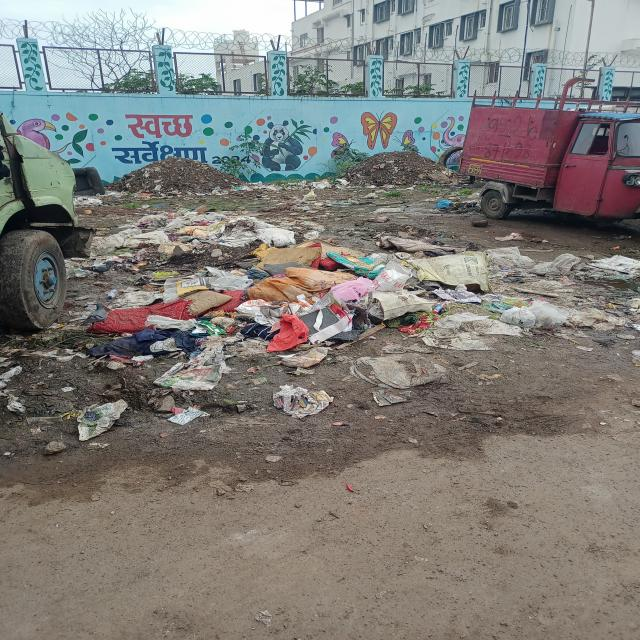garbage: (101, 213, 490, 390), (499, 248, 640, 338), (120, 156, 254, 196), (347, 151, 461, 189), (258, 177, 345, 211), (72, 166, 122, 207)
